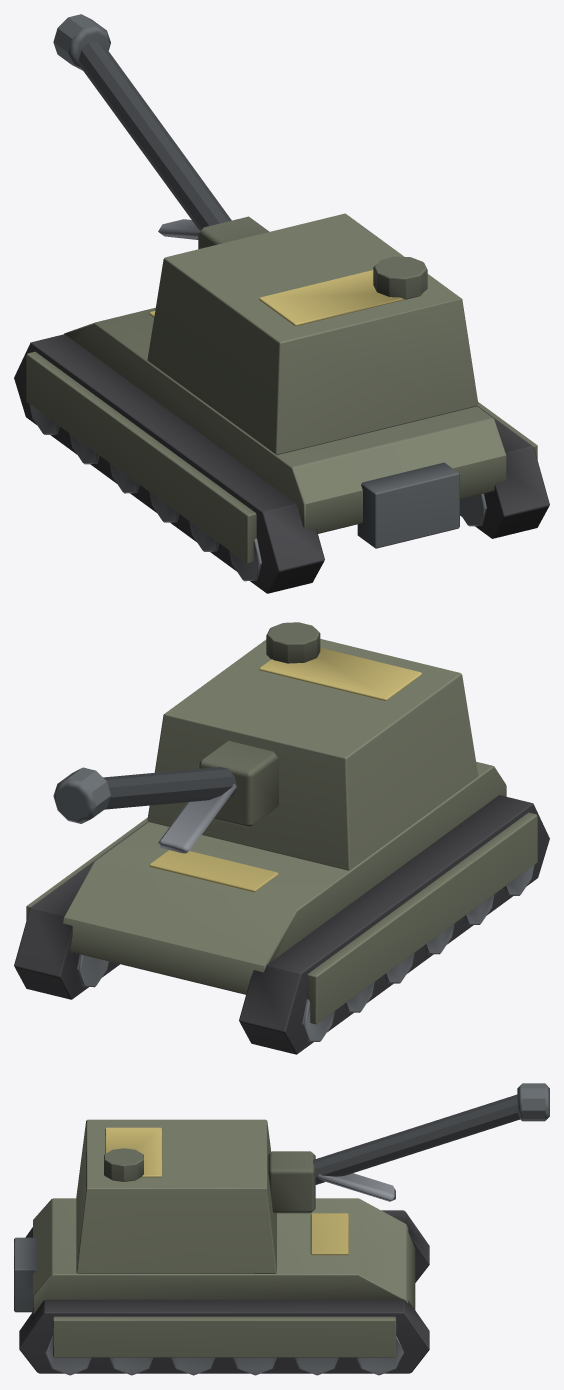
The model's file is artillery_vehicle.glb.
3 views of the same model, one above another, from view 1: azimuth 30°, elevation 25°; view 2: azimuth 150°, elevation 25°; view 3: azimuth 270°, elevation 25° (orthographic). The views are drawn at different scales.
Visible parts, largest first — view 1: Body, Turret, Barrel; view 2: Body, Turret, Barrel; view 3: Body, Turret, Barrel.
Part boxes in pixels (x1,y1,x2,y2): Body: (14, 307, 549, 593); Turret: (147, 213, 478, 454); Barrel: (53, 14, 269, 249); Body: (14, 762, 549, 1054); Turret: (147, 622, 478, 870); Barrel: (53, 740, 278, 853); Body: (14, 1198, 429, 1375); Turret: (76, 1119, 276, 1273); Barrel: (268, 1083, 549, 1213).
Size of the model in its own units: 2.72 by 2.74 by 5.6.
